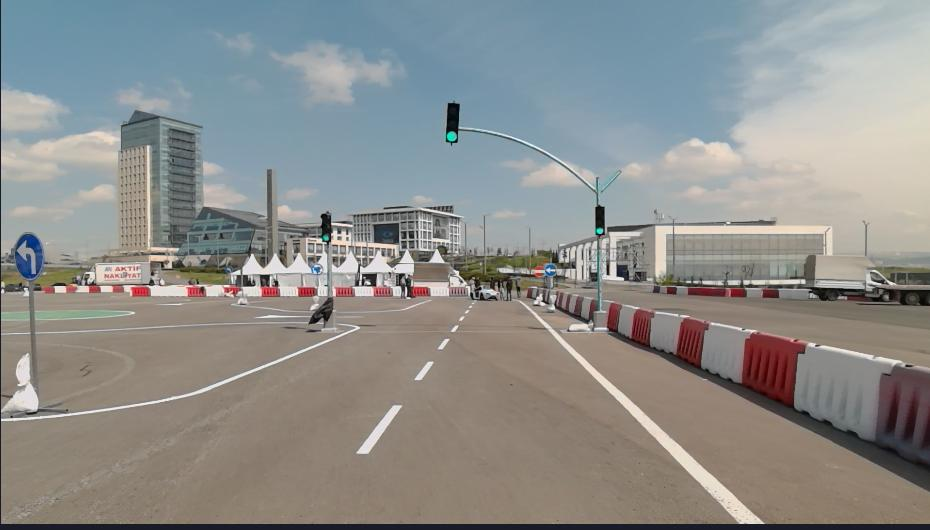nesne: (0, 291, 766, 530), (1, 292, 476, 526), (304, 295, 763, 525), (519, 298, 764, 526), (607, 301, 929, 473), (3, 322, 360, 419), (457, 125, 623, 207), (789, 338, 887, 438), (872, 360, 928, 470), (741, 328, 804, 406), (805, 254, 896, 302), (2, 352, 65, 413), (698, 320, 750, 386), (356, 398, 404, 455), (80, 261, 161, 285), (672, 313, 706, 368), (14, 233, 44, 280), (650, 310, 679, 354), (308, 296, 337, 333), (28, 276, 37, 394), (628, 307, 653, 346), (566, 309, 609, 331), (894, 282, 928, 304), (614, 304, 637, 336), (445, 98, 460, 144), (148, 285, 188, 297), (596, 235, 602, 310), (776, 287, 813, 299), (608, 301, 621, 335), (400, 273, 417, 298), (476, 284, 501, 300), (326, 241, 333, 296), (321, 212, 332, 243), (594, 202, 604, 236), (578, 297, 592, 320), (688, 287, 723, 296), (470, 273, 480, 299), (566, 293, 578, 313), (336, 283, 354, 296), (371, 285, 392, 296), (427, 284, 448, 295), (571, 294, 582, 315), (448, 284, 466, 296), (277, 287, 298, 297), (720, 277, 730, 298), (308, 294, 320, 311), (206, 286, 224, 297), (353, 287, 375, 296), (762, 289, 780, 300), (542, 262, 556, 276), (187, 287, 206, 297), (505, 273, 512, 300), (222, 286, 240, 296), (242, 287, 260, 297), (545, 295, 555, 312), (260, 286, 281, 294), (731, 286, 746, 297), (298, 287, 316, 296), (744, 288, 764, 296), (532, 265, 545, 277), (533, 293, 545, 306), (133, 286, 148, 296), (238, 289, 247, 305), (312, 262, 322, 274), (415, 286, 430, 294), (557, 292, 564, 309), (390, 285, 400, 296), (43, 285, 55, 293), (489, 275, 496, 288), (67, 285, 78, 293), (602, 298, 610, 309), (677, 286, 688, 294), (563, 293, 568, 310), (77, 286, 89, 293), (547, 276, 550, 302), (55, 286, 66, 293), (527, 287, 534, 298), (316, 274, 319, 298), (659, 285, 667, 294), (112, 285, 122, 292), (101, 286, 112, 292), (646, 284, 655, 291), (666, 287, 675, 294), (88, 287, 100, 292), (123, 286, 130, 294), (537, 276, 539, 297), (655, 286, 659, 294)
